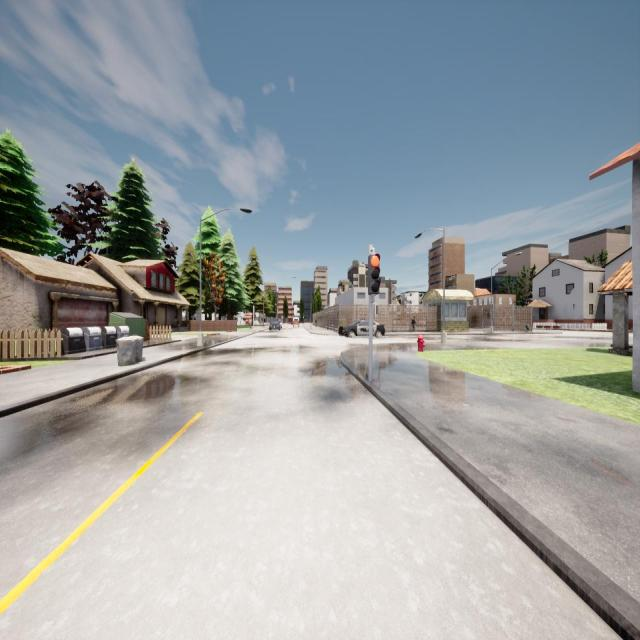Pedestrian: (412, 317, 416, 330), (526, 322, 529, 331)
Vehicle: (339, 320, 385, 337), (269, 320, 281, 331), (293, 318, 299, 328)
traffic_light: (368, 255, 379, 294), (376, 305, 379, 314)
